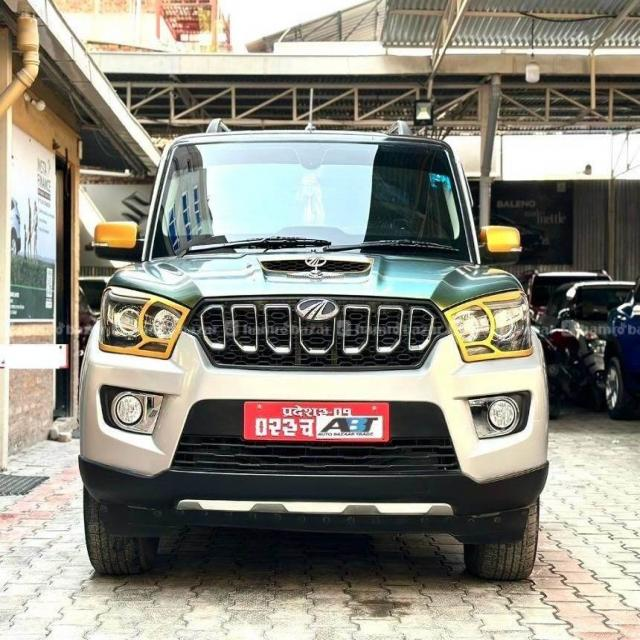License-plate: (242, 402, 392, 443)
